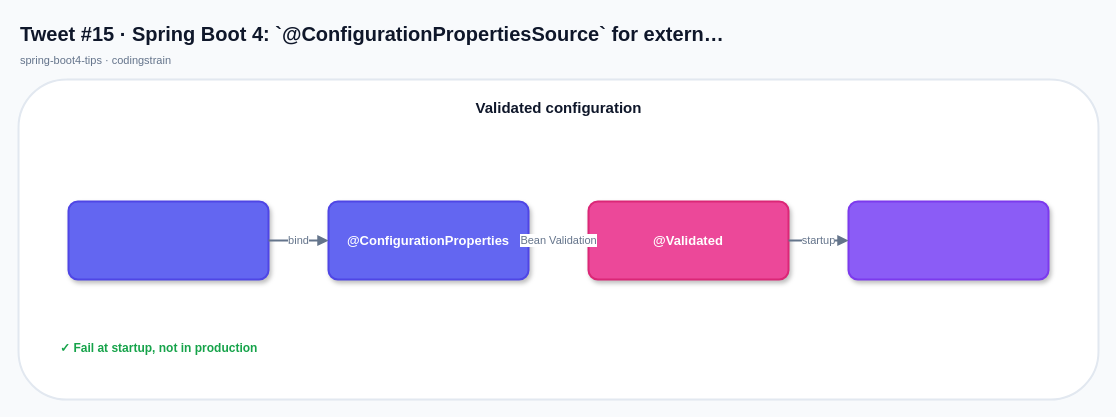
Some shapes in this 1116 by 417 pixel diagram are drawn without their labels. Here are the shapes that lost their labels. From the top down, the centre of each, then its label:
the point at 169,241: application.yml
the point at 949,241: Spring Context
